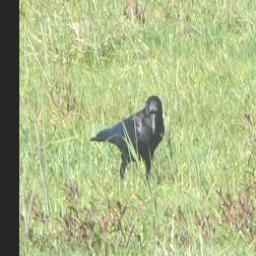Crow: (87, 95, 165, 186)
